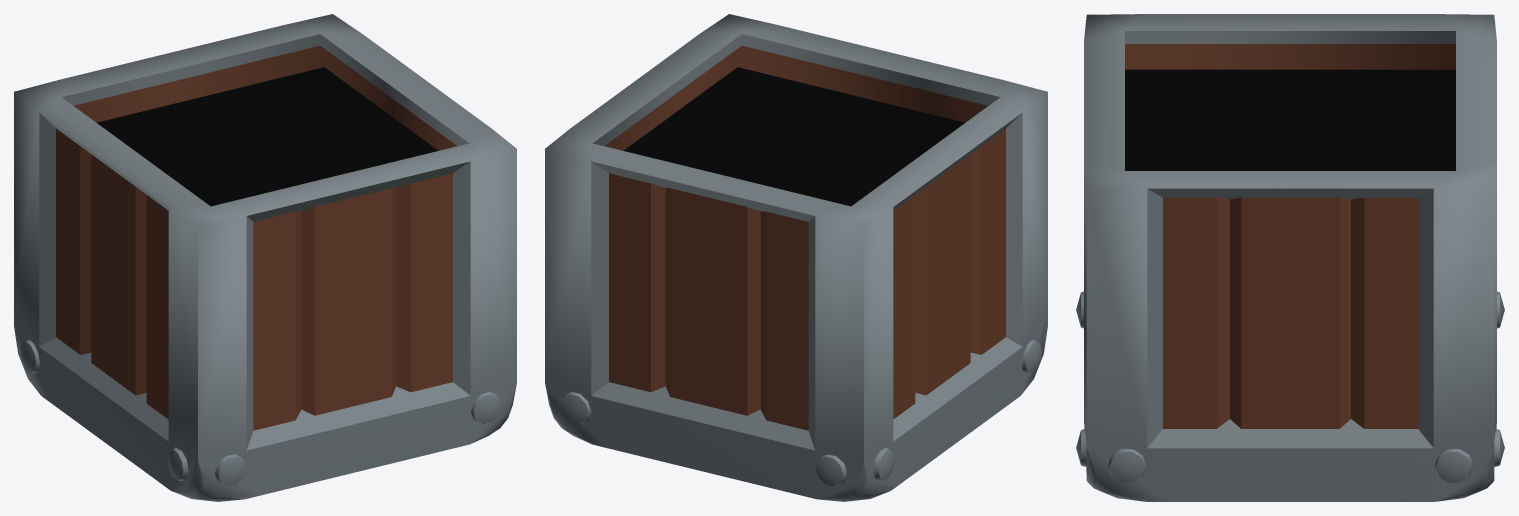
The model's file is crateDark_NoLid.fbx.
The picture shows the model from 3 angles, left to right: view 1: azimuth 30°, elevation 25°; view 2: azimuth 150°, elevation 25°; view 3: azimuth 270°, elevation 25°; orthographic projection. The views are drawn at different scales.
Parts seen in each view (by area): view 1: crateDark; view 2: crateDark; view 3: crateDark.
Boxes of the visible parts, x1,y1,x2,y2 form: crateDark: [14, 14, 516, 501]; crateDark: [545, 14, 1047, 501]; crateDark: [1076, 14, 1504, 501].
Bounding box in the file's own units: 105 × 87.83 × 105.
